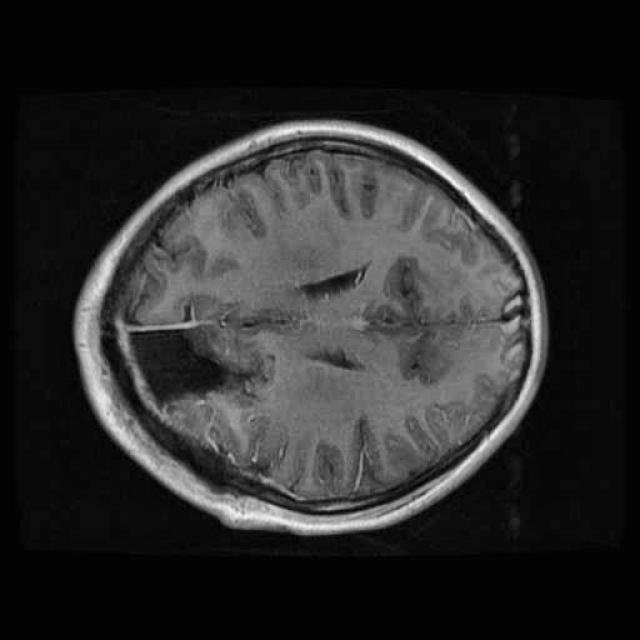Non-Tumor: (113, 278, 309, 426)
